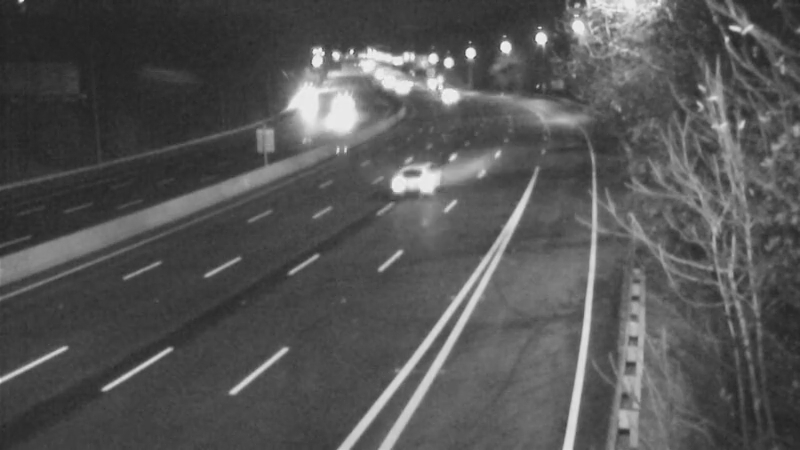vehicle: (371, 143, 451, 223), (406, 57, 456, 107), (417, 67, 467, 117), (321, 78, 371, 128)
